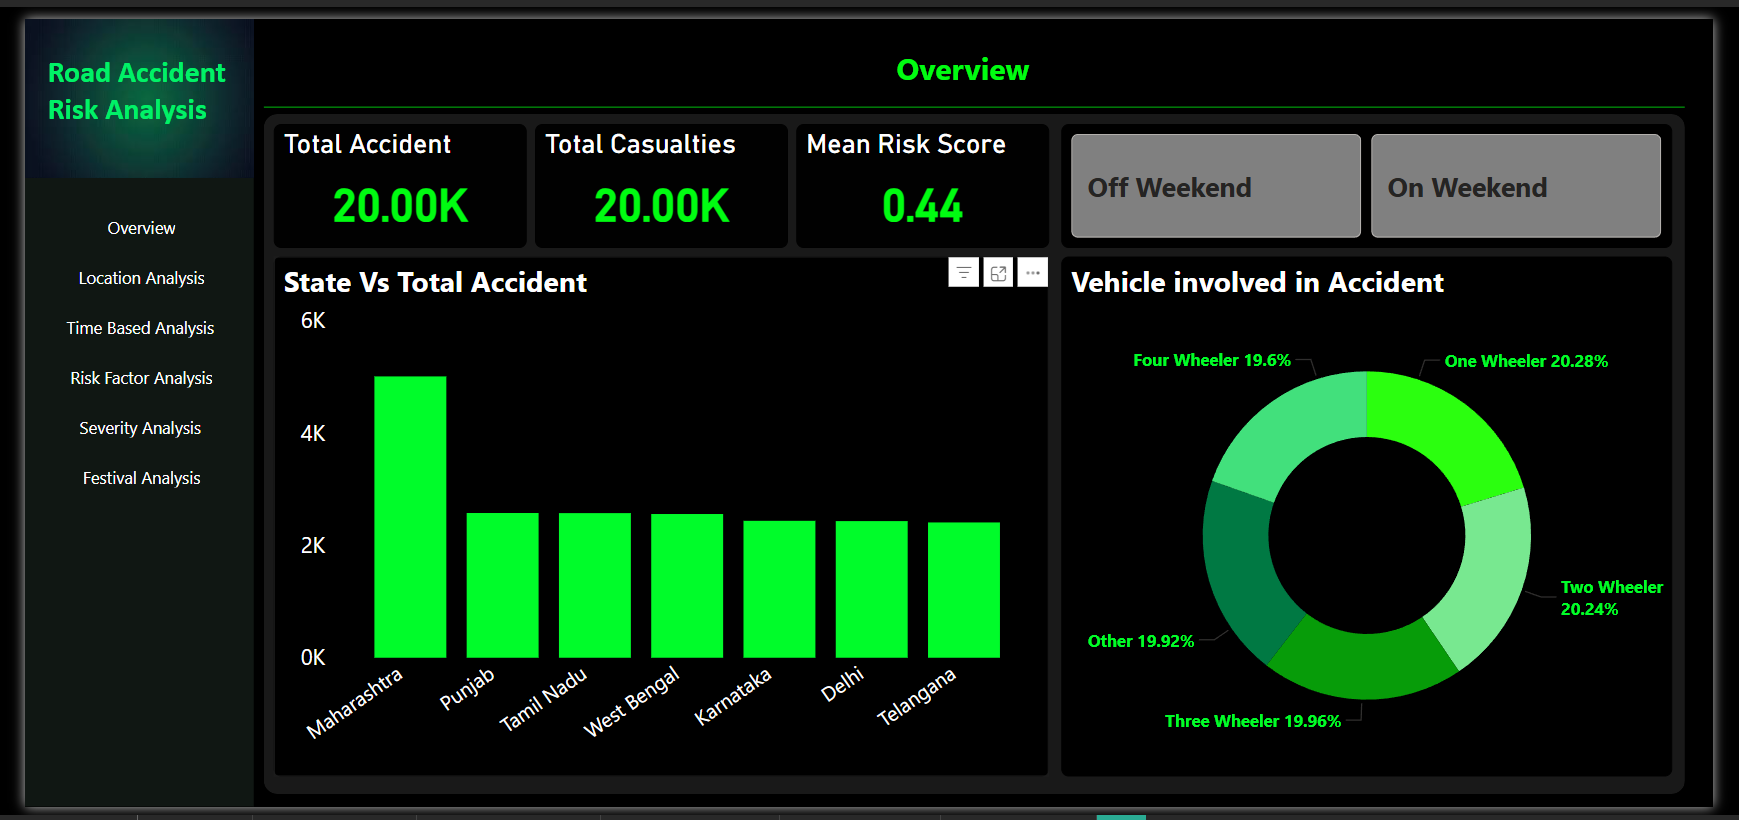

What the dashboard file says about the page in this screenshot:
{"tool":"powerbi","page":{"name":"Overview","canvas":[1350,630],"ordinal":0},"visuals":[{"type":"shape","box":[0,0,183,630],"z":0},{"type":"image","box":[0,0,183,127],"z":1000},{"type":"textbox","box":[13,22,160,85],"z":2000},{"type":"actionButton","box":[13,146,160,40],"z":3000},{"type":"actionButton","box":[13,186,160,40],"z":4000},{"type":"actionButton","box":[12,226,160,40],"z":5000},{"type":"actionButton","box":[13,266,160,40],"z":6000},{"type":"actionButton","box":[12,306,160,40],"z":7000},{"type":"actionButton","box":[13,346,160,40],"z":8000},{"type":"shape","box":[191,65,1137,11],"z":9000},{"type":"textbox","box":[692,18,137,46],"z":10000},{"type":"shape","box":[191,76,1137,544],"z":11000},{"type":"card","title":"Total Accident","fields":{"Values":["Count(public accidents.accident_id)"]},"box":[199,84,202,99],"z":12000},{"type":"card","title":"Total Casualties","fields":{"Values":["CountNonNull(public accidents.casualties)"]},"box":[408,84,202,99],"z":13000},{"type":"card","title":"Mean Risk Score","fields":{"Values":["Avg(public accidents.risk_score)"]},"box":[617,84,202,99],"z":14000},{"type":"lineStackedColumnComboChart","title":"State Vs Total Accident","fields":{"Category":["public accidents.state"],"Y":["CountNonNull(public accidents.accident_id)"]},"box":[199,190,620,416],"z":15000},{"type":"donutChart","title":"Vehicle involved in Accident ","fields":{"Y":["Sum(public accidents.accident_id)"],"Category":["public accidents.Vehicle"]},"box":[829,190,489,416],"z":16000},{"type":"advancedSlicerVisual","fields":{"Values":["public accidents.Weekend Status"]},"box":[829,84,489,99],"z":17000}]}

Visuals, with their boxes in screenshot pixels (x1, y1, x2, y2), scaled from the page's 1350x630 canvas onto the 1739x820 screenshot:
shape: region(0, 0, 236, 819)
image: region(0, 0, 236, 165)
textbox: region(17, 29, 223, 139)
actionButton: region(17, 190, 223, 242)
actionButton: region(17, 242, 223, 294)
actionButton: region(15, 294, 222, 346)
actionButton: region(17, 346, 223, 398)
actionButton: region(15, 398, 222, 450)
actionButton: region(17, 450, 223, 502)
shape: region(246, 85, 1711, 99)
textbox: region(891, 23, 1068, 83)
shape: region(246, 99, 1711, 807)
"Total Accident" card: region(256, 109, 517, 238)
"Total Casualties" card: region(526, 109, 786, 238)
"Mean Risk Score" card: region(795, 109, 1055, 238)
"State Vs Total Accident" lineStackedColumnComboChart: region(256, 247, 1055, 789)
"Vehicle involved in Accident " donutChart: region(1068, 247, 1698, 789)
advancedSlicerVisual - public accidents.Weekend Status: region(1068, 109, 1698, 238)
